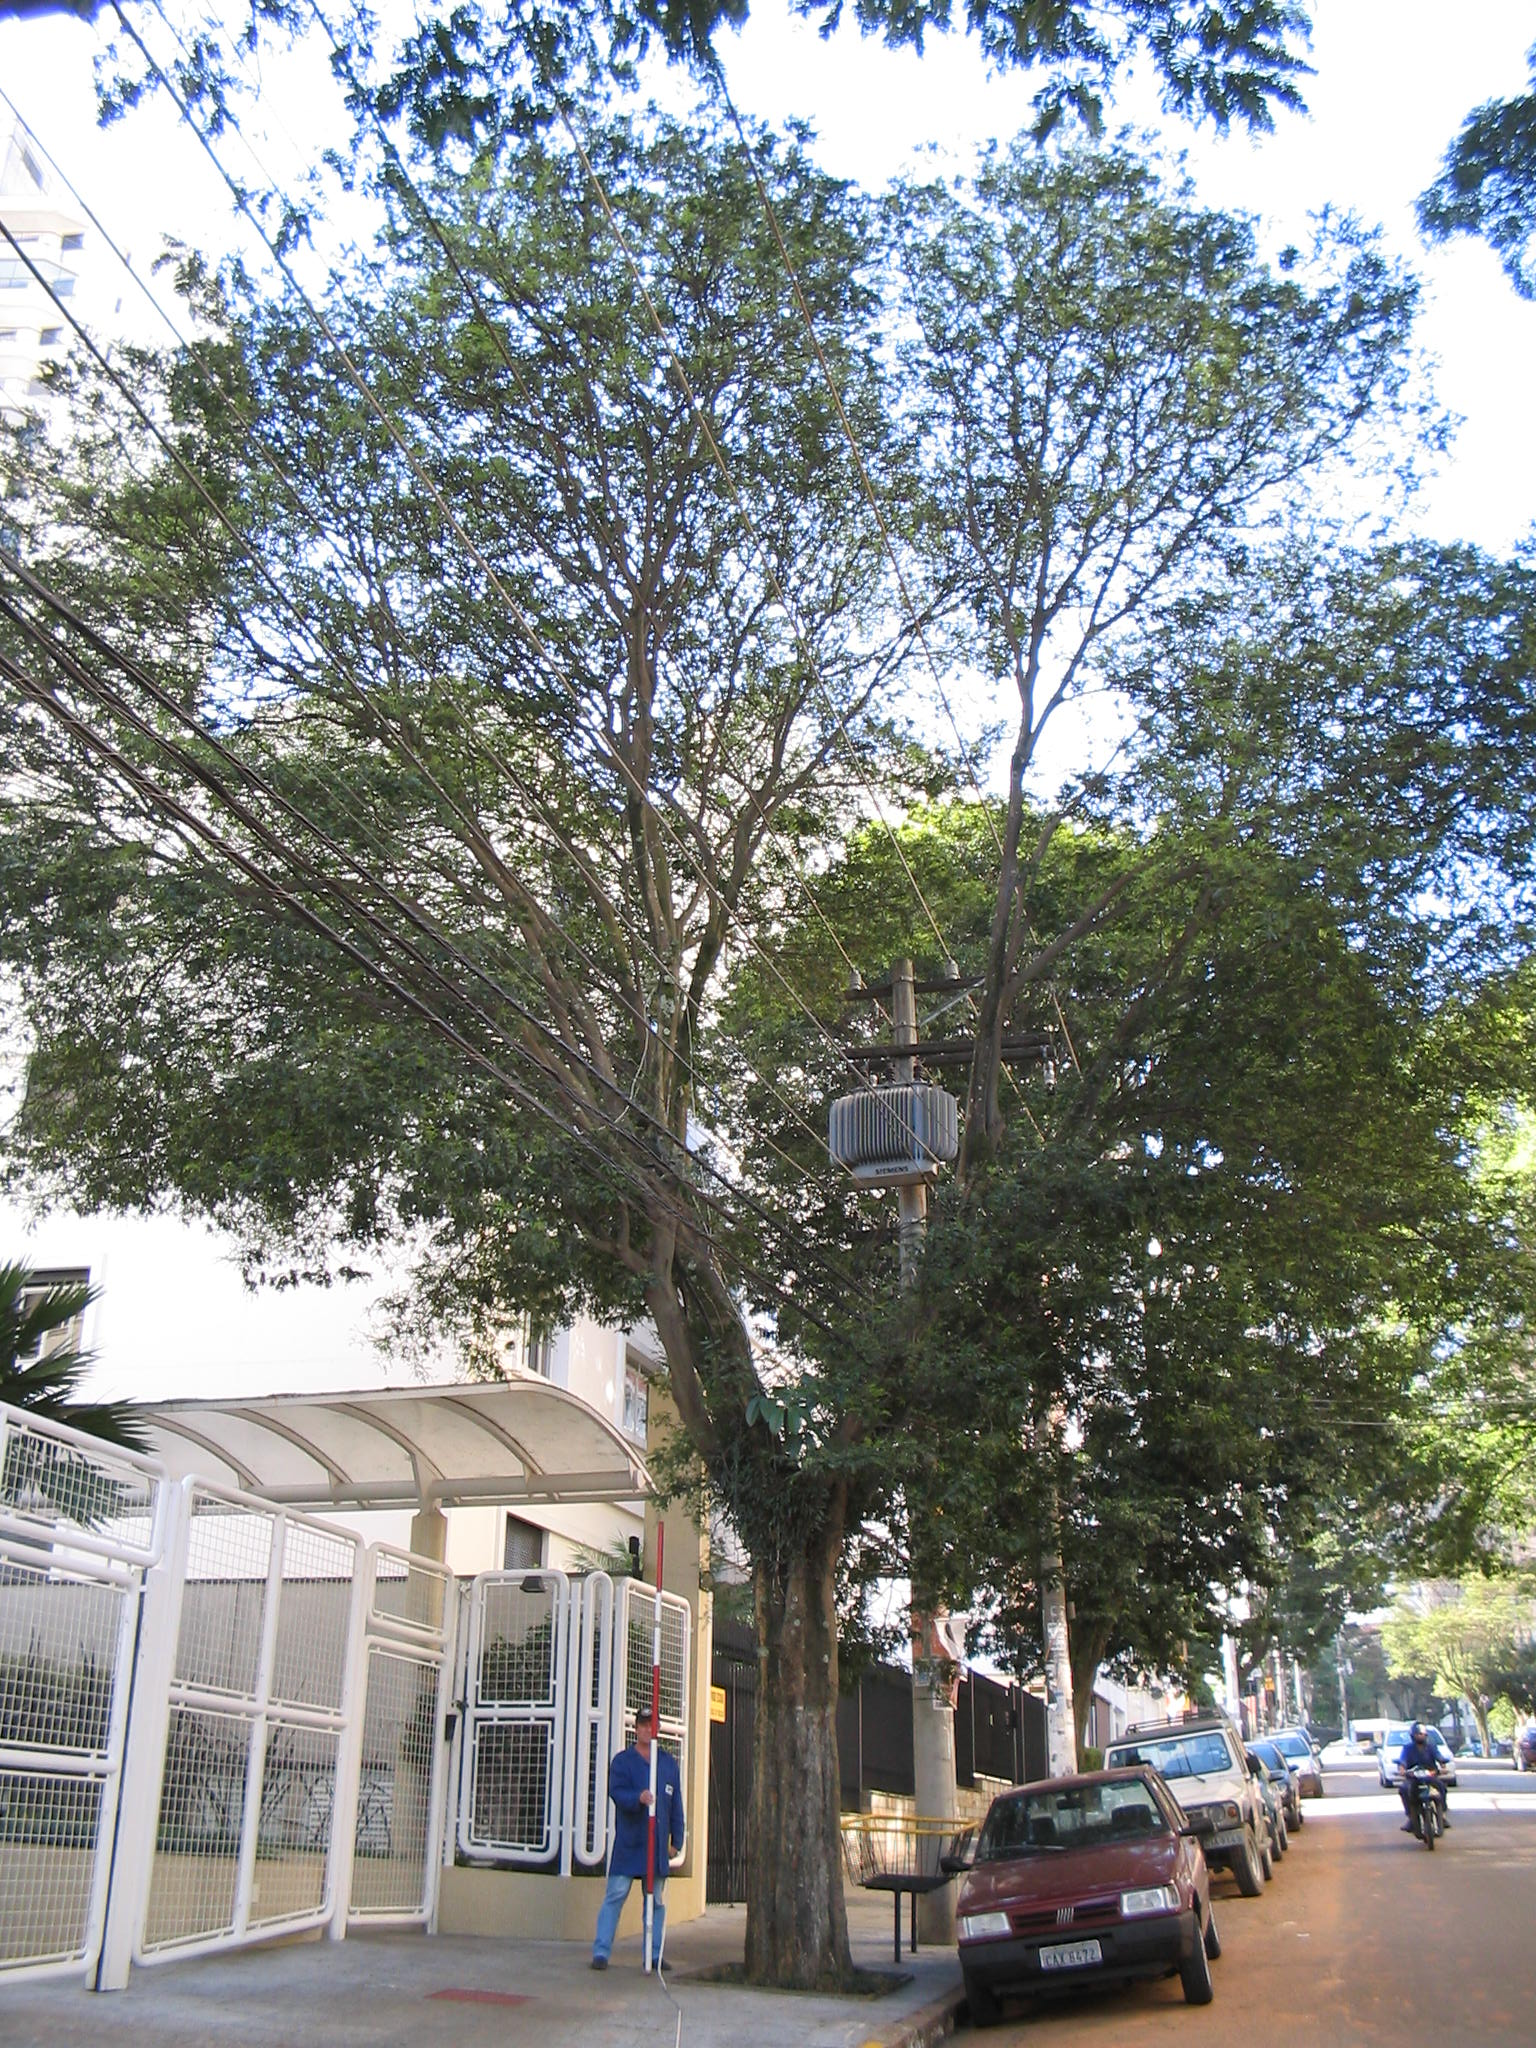crown: (18, 100, 1467, 1384)
stem: (687, 1517, 908, 1990)
stick: (611, 1524, 695, 1975)
tree: (10, 95, 1471, 1990)
